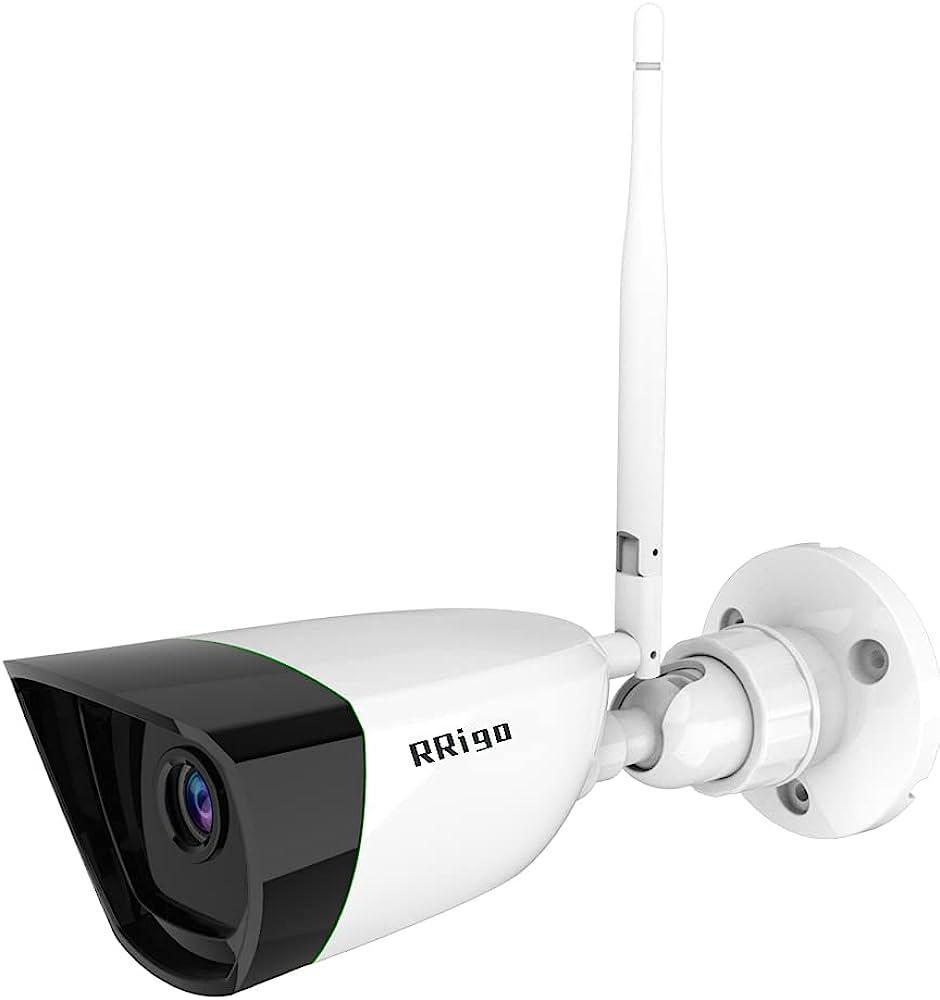tutu: (7, 608, 647, 1000)
